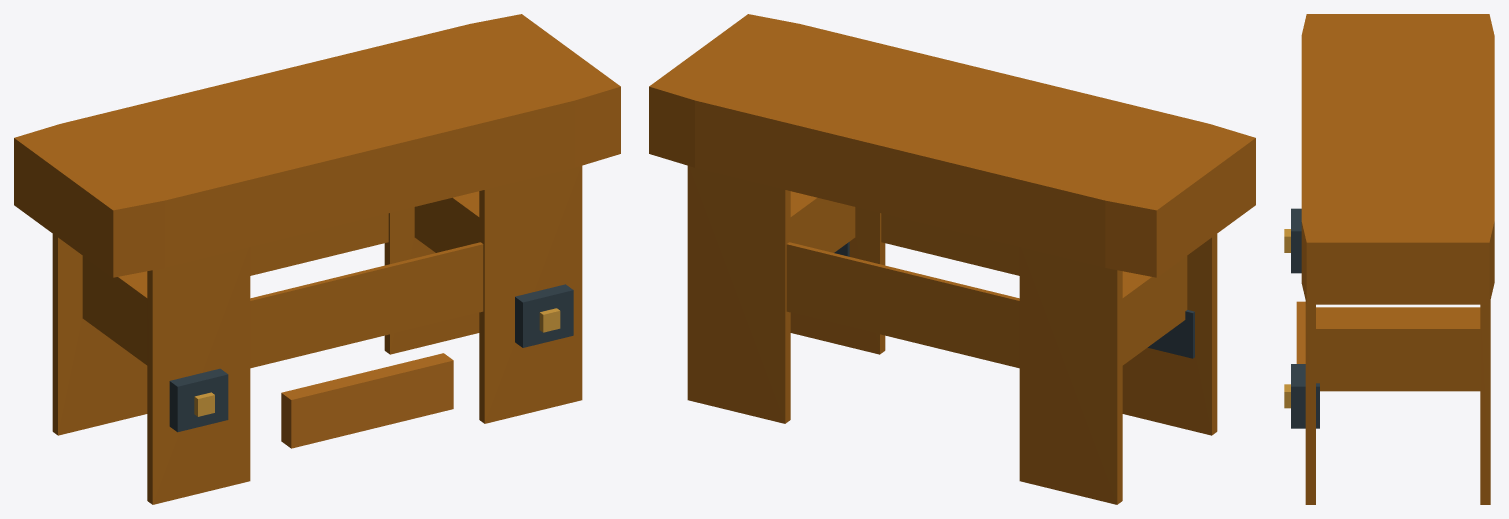
Rendered from market-bench-butter.glb.
3 renders of one model, left to right at view 1: azimuth 30°, elevation 25°; view 2: azimuth 150°, elevation 25°; view 3: azimuth 270°, elevation 25°, orthographic. The views are drawn at different scales.
Visible parts, largest first — view 1: market-bench-butter; view 2: market-bench-butter; view 3: market-bench-butter.
Boxes of the visible parts, x1=… form: market-bench-butter: x1=14, y1=14, x2=620, y2=504; market-bench-butter: x1=649, y1=14, x2=1255, y2=504; market-bench-butter: x1=1284, y1=14, x2=1494, y2=504.
Size of the model in its own units: 1.4 by 0.8 by 0.5445.
